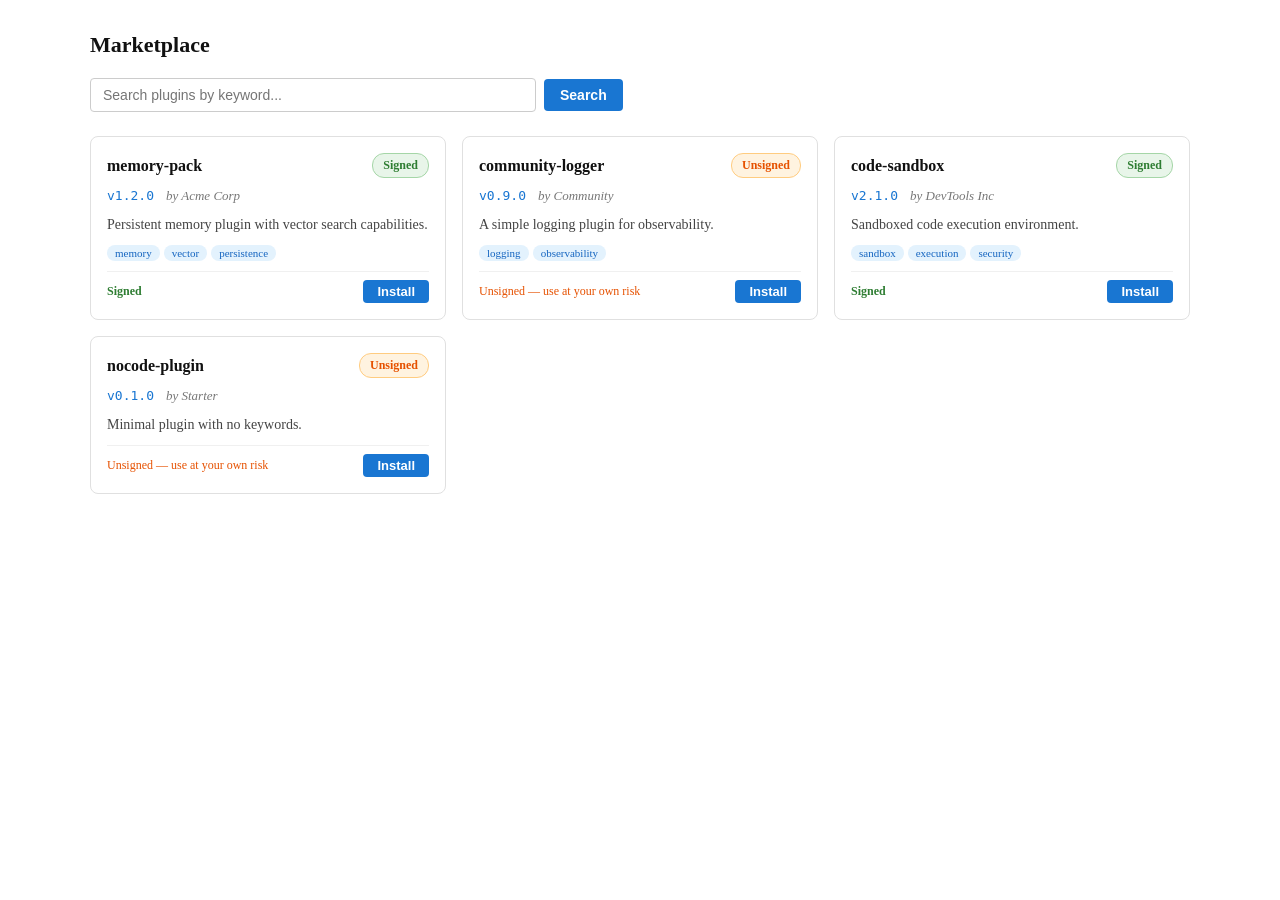
Test: MarketplacePage › click opens detail modal
This screenshot has width=1280, height=900.
Expected: the text "memory-pack" is shown, left=107, top=157, right=202, bottom=175
// Click the first plugin card
What coordinates should you click on to do the following:
click the element with test id "marketplace-card-memory-pack"
I would click on:
 (268, 228)
Its box is left=90, top=136, right=446, bottom=320.
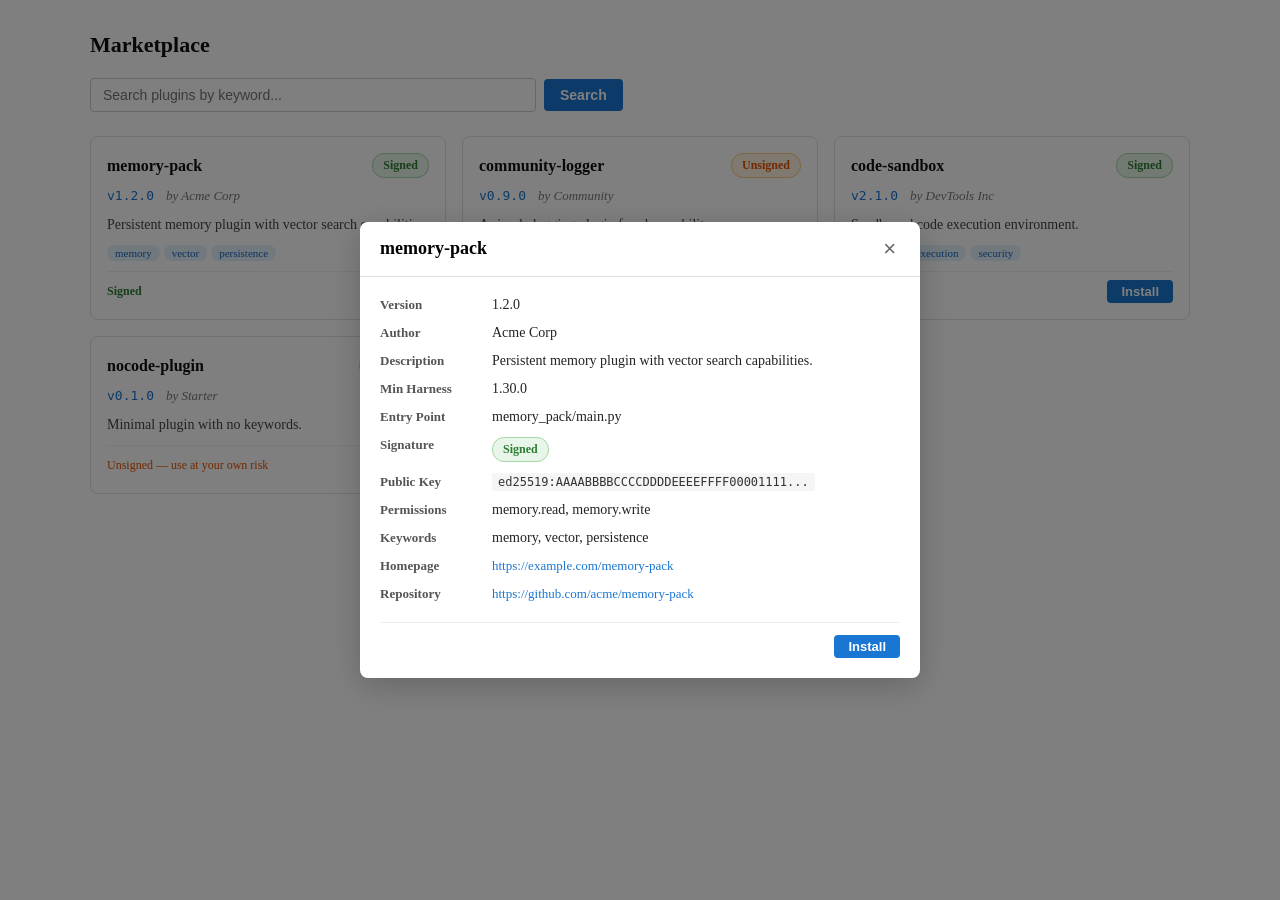
Result: the element with test id "plugin-detail" is shown at left=380, top=297, right=900, bottom=658
Result: the text "Min Harness" is shown at left=380, top=381, right=452, bottom=396
Result: the text "memory_pack/main.py" is shown at left=492, top=409, right=622, bottom=425
